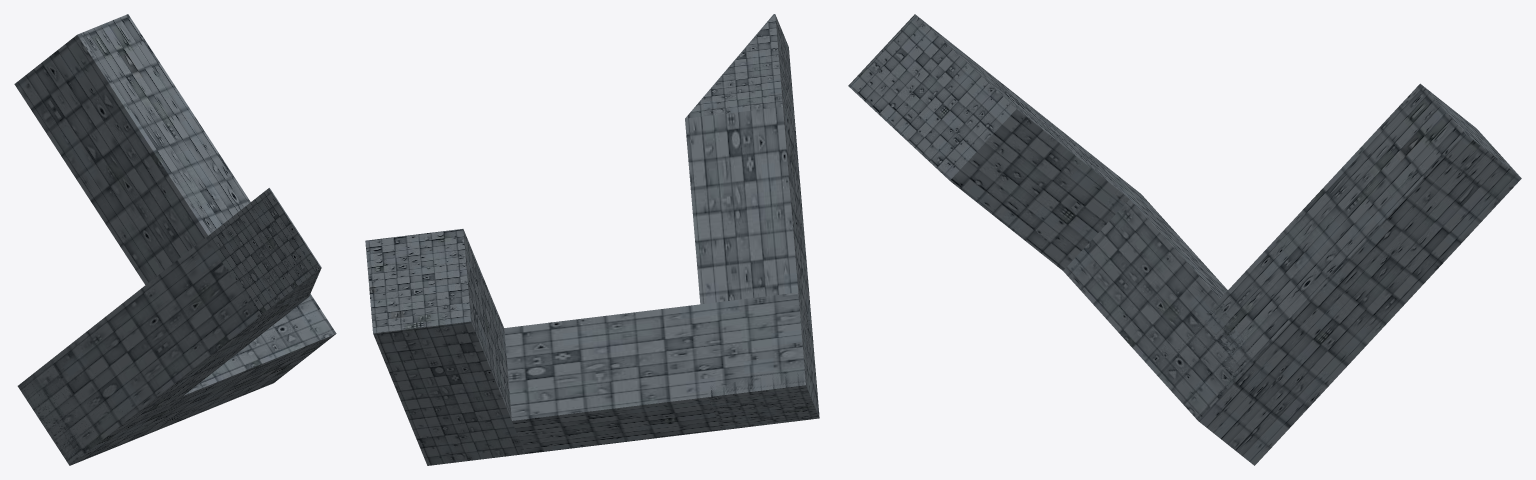
The model's file is penrosetriangule.glb.
3 renders of one model, left to right at view 1: azimuth 30°, elevation 25°; view 2: azimuth 150°, elevation 25°; view 3: azimuth 270°, elevation 25°, orthographic. The views are drawn at different scales.
Visible parts, largest first — view 1: Cube.003; view 2: Cube.003; view 3: Cube.003.
Boxes of the visible parts, x1=… form: Cube.003: x1=14, y1=14, x2=336, y2=465; Cube.003: x1=365, y1=14, x2=819, y2=465; Cube.003: x1=848, y1=14, x2=1521, y2=465.
Bounding box in the file's own units: 83.2 × 82.17 × 137.
Materials: 1 (1 with a texture image).
